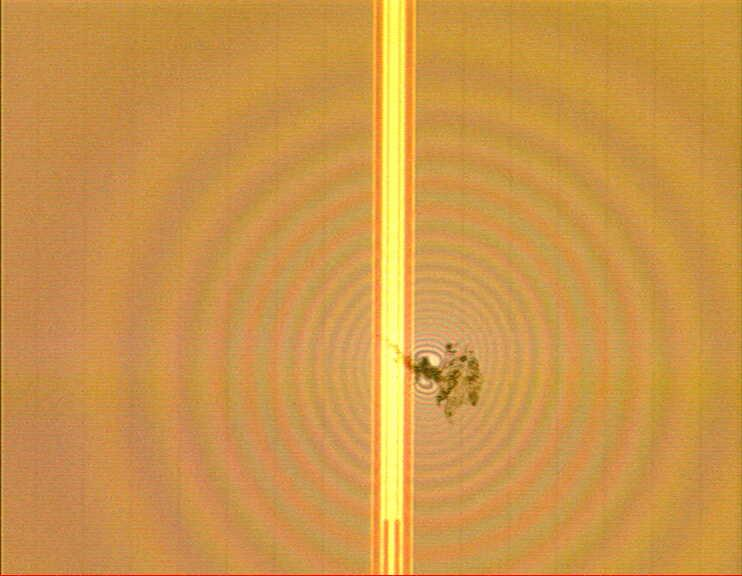PIQ PARTICLE: (385, 336, 486, 430)
